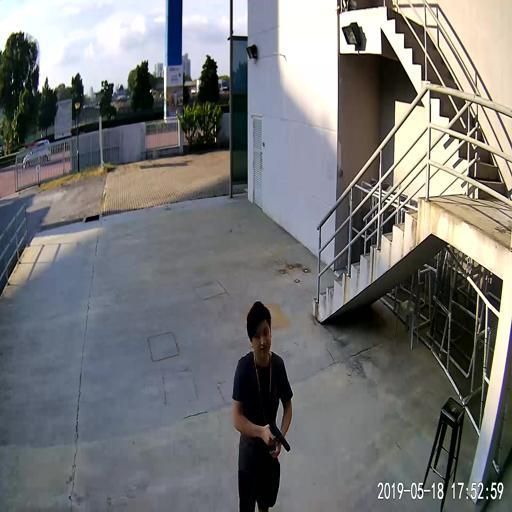Handgun: (268, 421, 290, 451)
